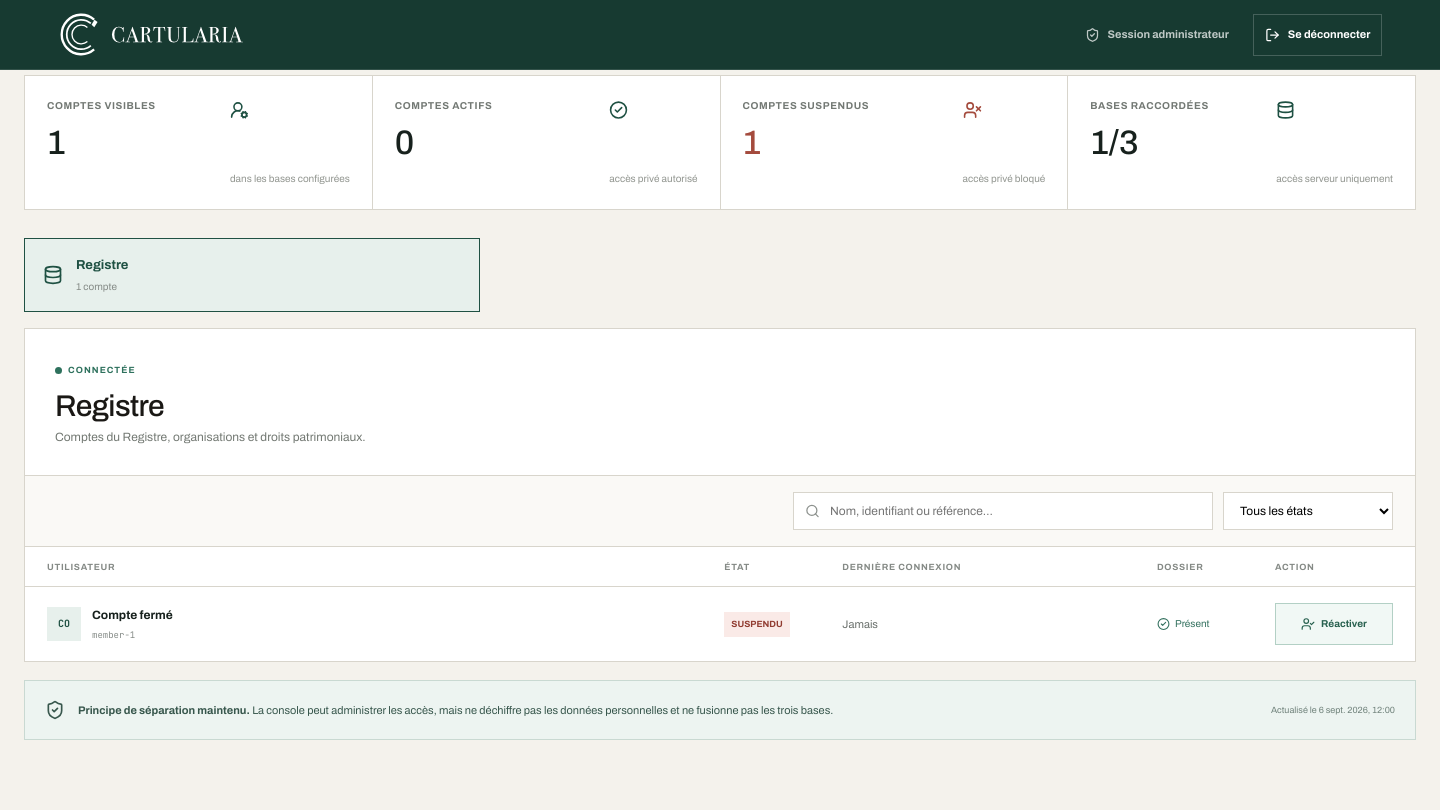
Test: administration sans rupture de session › permet un nouvel essai sur une opération échouée, sans présenter Auth.disabled=false comme un compte actif
(page scrolled)
Expected: the text "Suspendu" is shown, left=724, top=612, right=790, bottom=637
Click the button "Réactiver": [1334, 624] box left=1275, top=603, right=1393, bottom=645
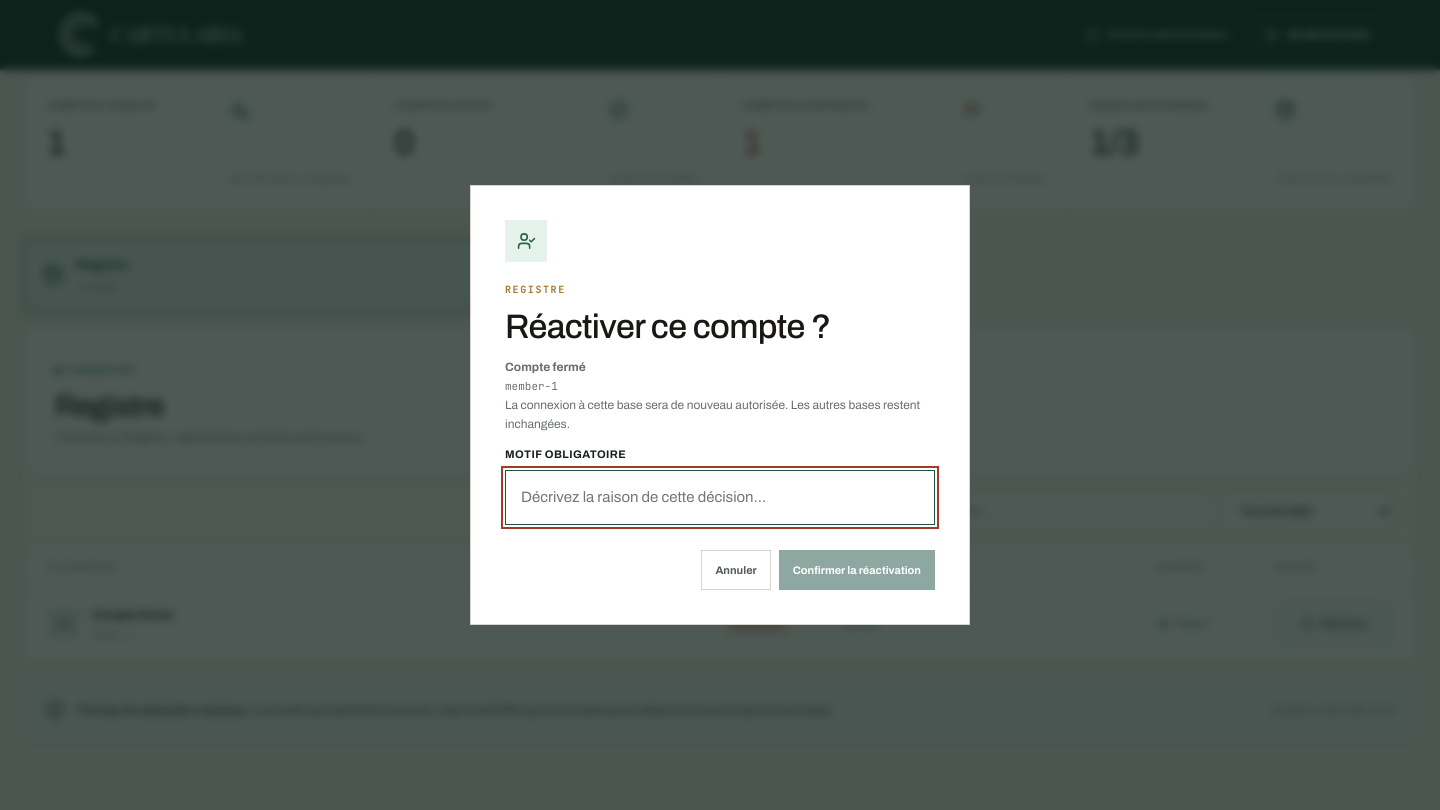
Now the dialog shows "Réactiver ce compte ?", box left=505, top=308, right=830, bottom=345
